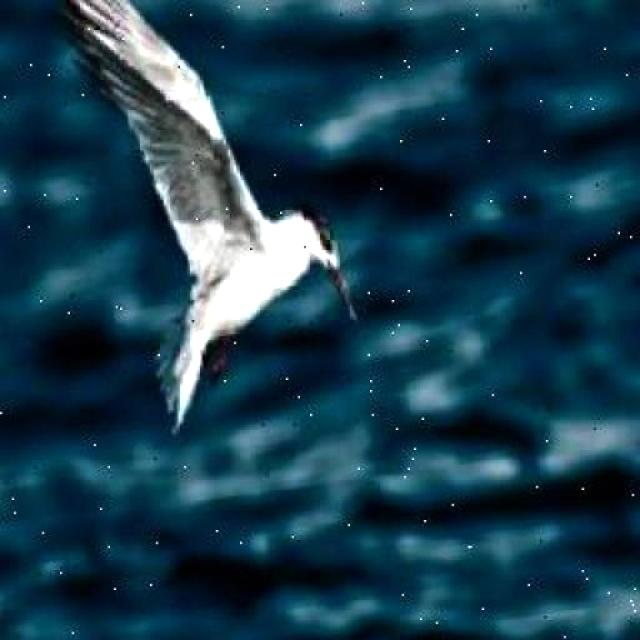airplane: (18, 0, 369, 446)
